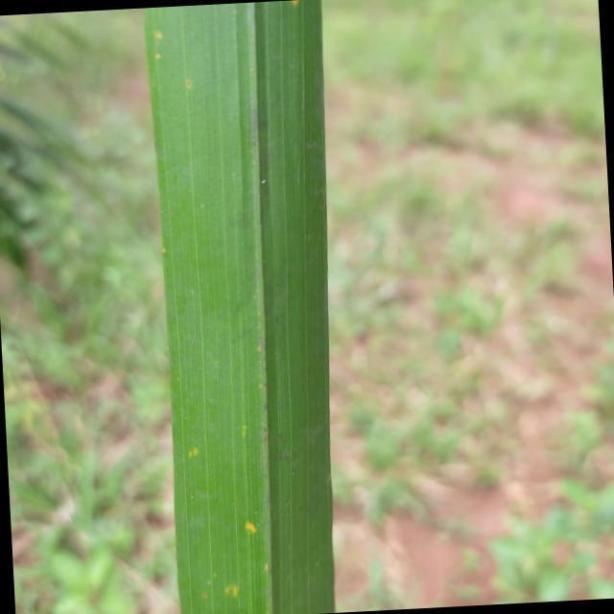Kalium: (146, 0, 330, 614)
